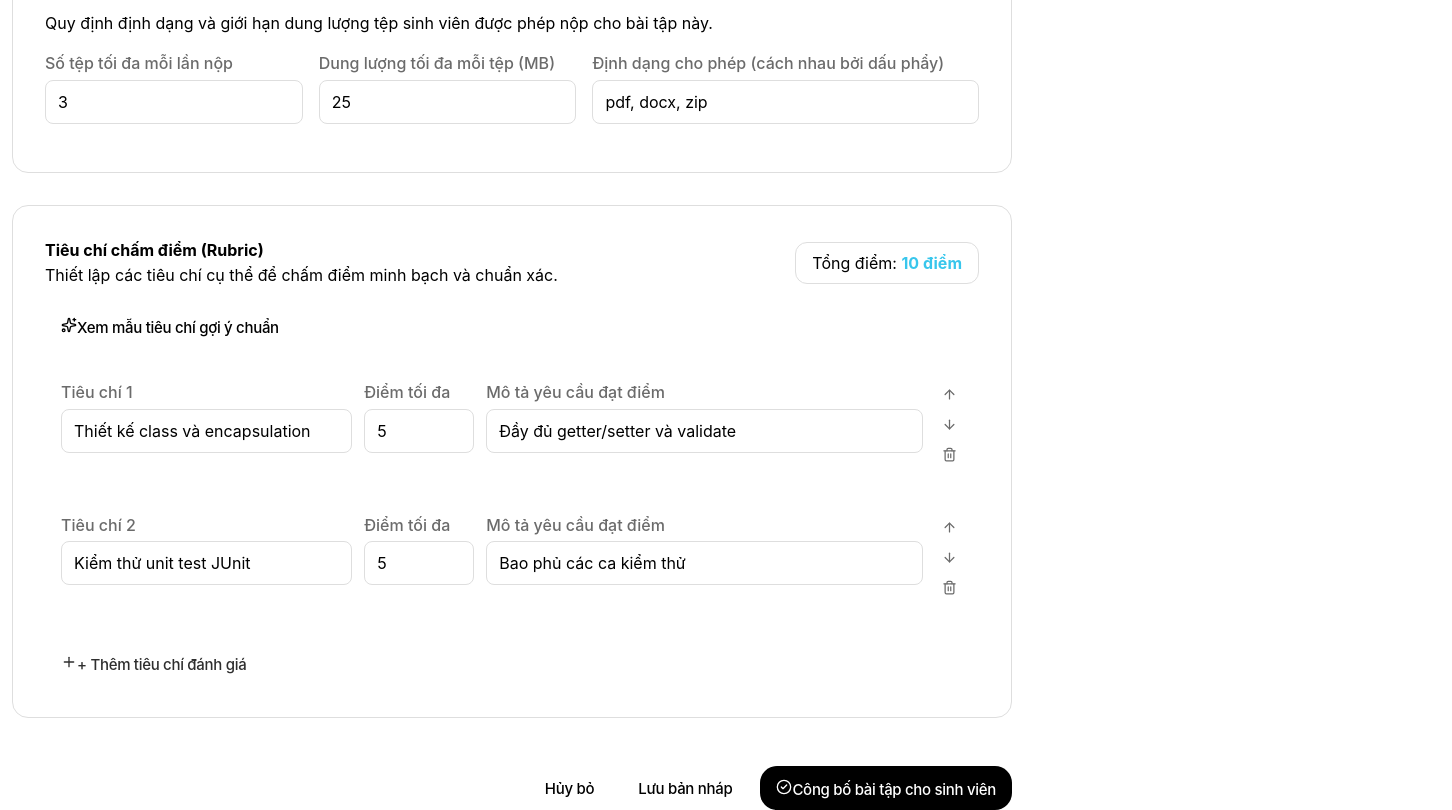
it: B10-05: Teacher Assignments Flow UI › TeacherAssignmentEditPage › 12. Handles 409 Stale Version Conflict gracefully with error banner
(page scrolled)
Click the button with test id "btn-save-draft" at coordinates (685, 788), box [622, 766, 748, 809]
(page scrolled)
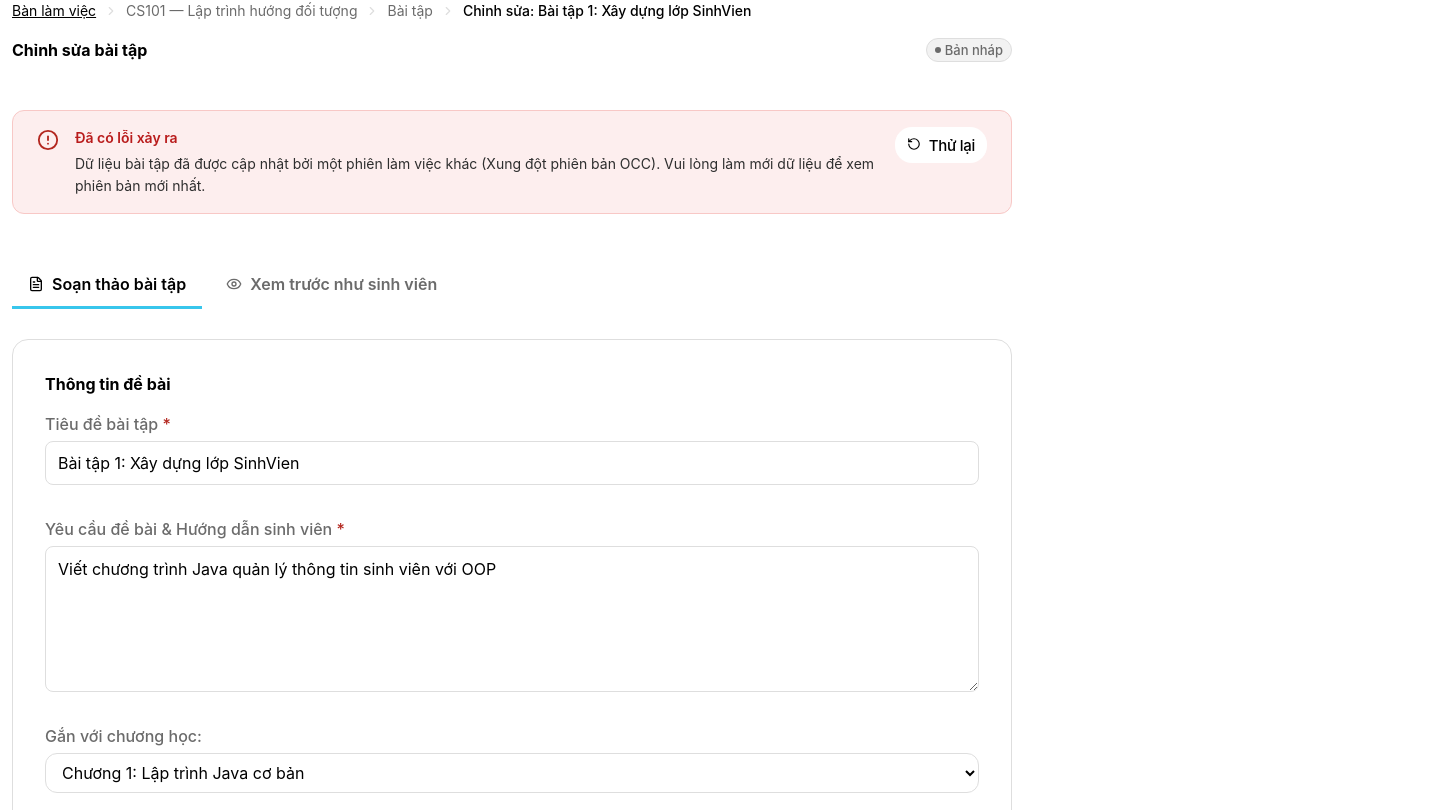
Check: the text "Xung đột phiên bản OCC" is shown, box [75, 155, 874, 194]
